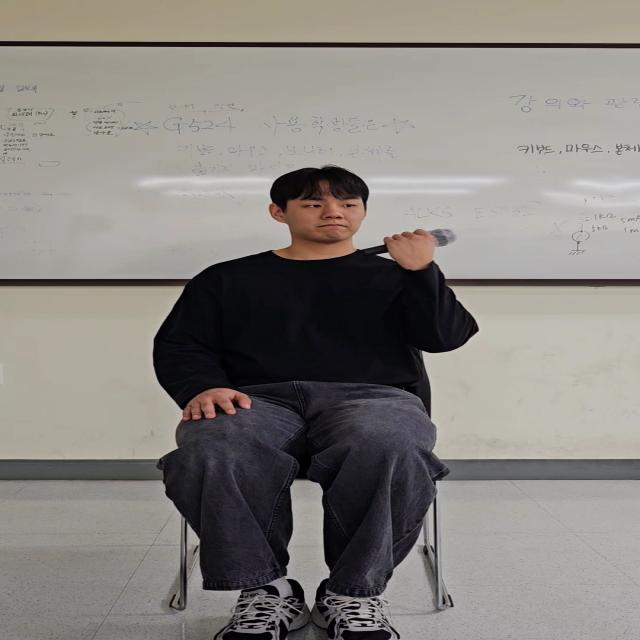curl: (372, 230, 492, 356)
